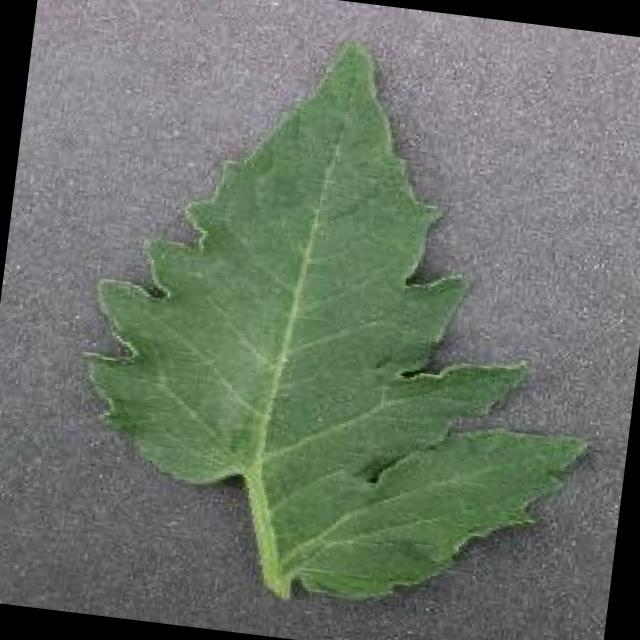Tomato_Healthy: (61, 8, 638, 623)
